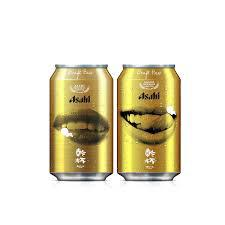beer: (48, 63, 181, 183)
